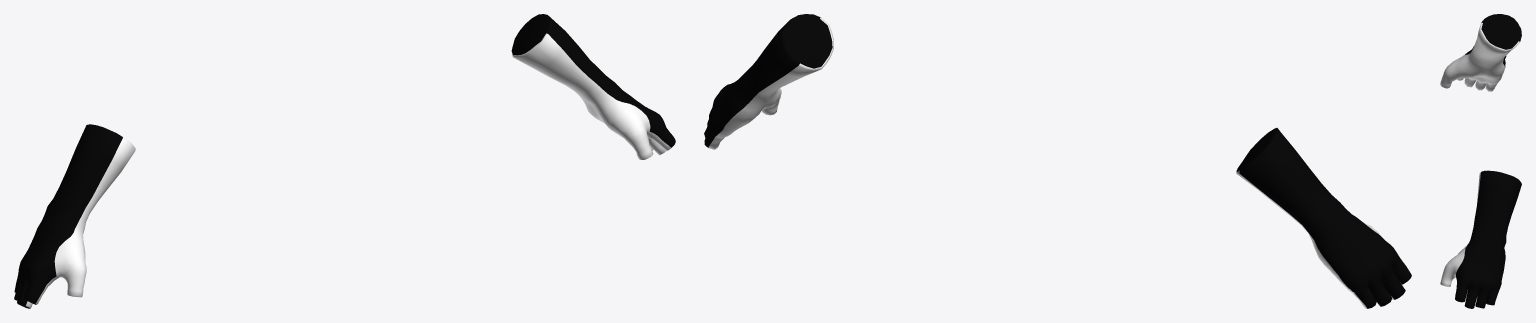
The model's file is SurvivorMale_Hands_Gloves_LongFingerless_LOD0.glb.
3 views of the same model, side by side, from view 1: azimuth 30°, elevation 25°; view 2: azimuth 150°, elevation 25°; view 3: azimuth 270°, elevation 25° (orthographic). The views are drawn at different scales.
Parts seen in each view (by area): view 1: Hoodie; view 2: Hoodie; view 3: Hoodie.
Part boxes in pixels (x1,y1,x2,y2): Hoodie: (14,14,675,308); Hoodie: (704,14,1411,308); Hoodie: (1440,14,1521,308).
Size of the model in its own units: 1.3 by 0.2826 by 0.1972.
1 material, 1 textured.
